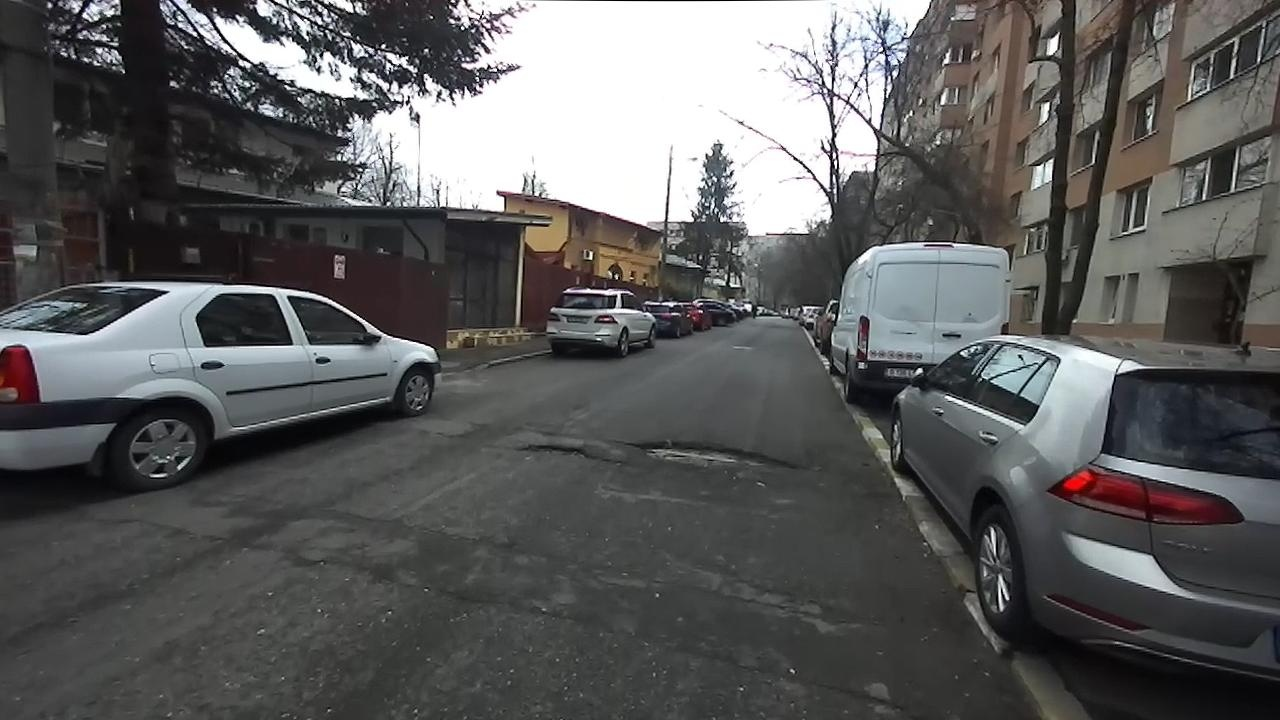pothole: (626, 436, 805, 477), (514, 440, 601, 463)
